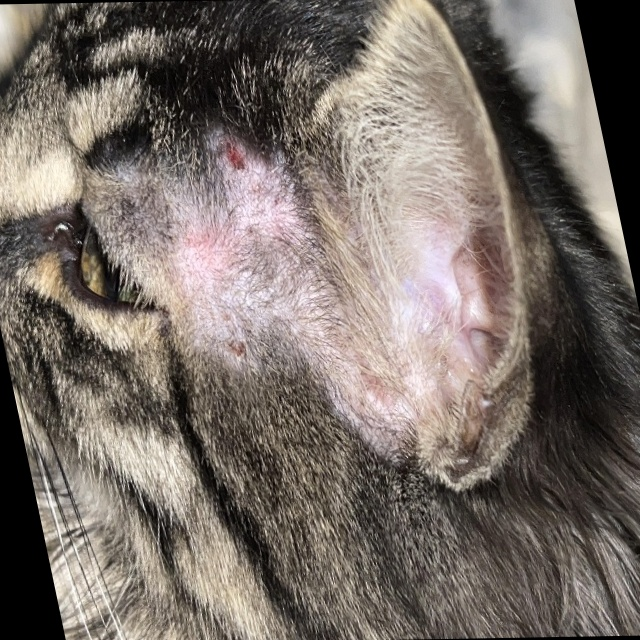ringworm: (151, 141, 341, 357)
